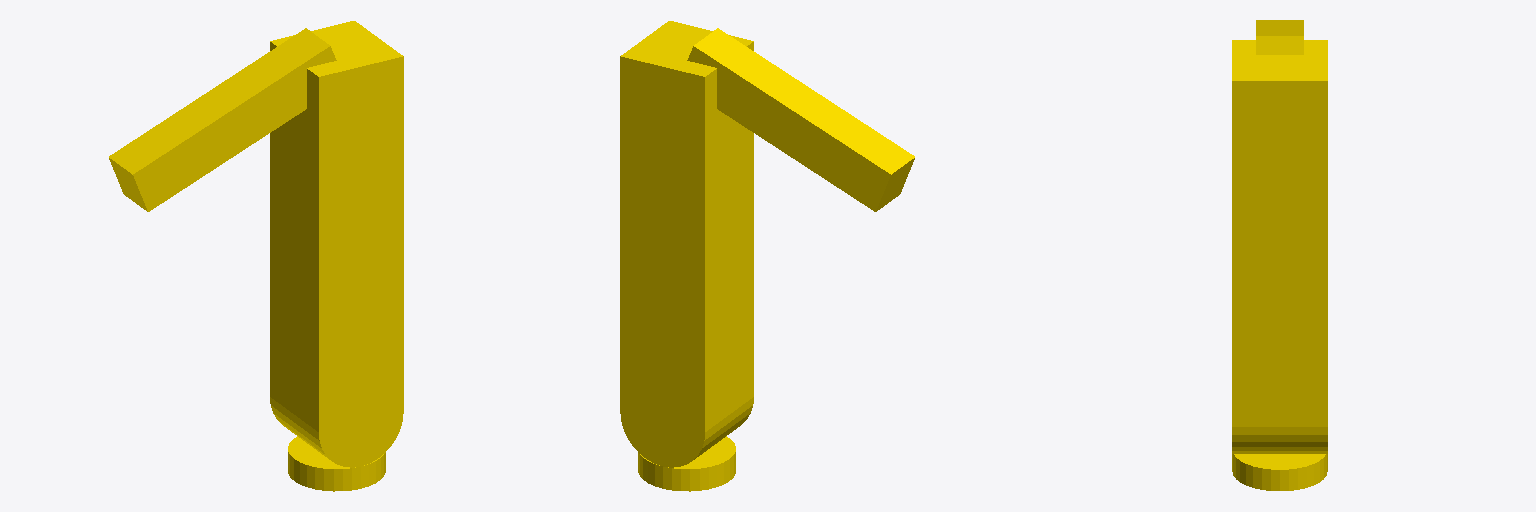
URDF robot description (crane):
<?xml version="1.0" ?>
<robot name="crane">
    <material name="gold">
        <color rgba="1 0.882 0 1"/>
    </material>
   
    <link name="crane_base_link"/>
    <link name="crane_yaw">
        <visual>
            <origin xyz="0 0 0.05" rpy="0 0 0" />
            <geometry>
               <cylinder length="0.1" radius="0.2"/>
            </geometry>
            <material name="gold"/>
        </visual>
        <collision>
            <origin xyz="0 0 0.05" rpy="0 0 0" />
            <geometry>
                <cylinder length="0.1" radius="0.2"/>
            </geometry>
        </collision>    
    </link>
    
    <joint name="joint0_1" type="revolute">
        <parent link="crane_base_link"/>
        <child link="crane_yaw"/>
        <origin xyz="0 0 0" rpy="0 0 0"/>
        <axis xyz="0 0 1"/>
        <limit lower="-0.523599" upper="0.523599" effort="0" velocity="0"/>
    </joint>

    <link name="crane_link1">
        <visual>
            <origin xyz="0 0 0" rpy="1.5708 0 0" />
            <geometry>
               <cylinder length="0.4" radius="0.2"/>
            </geometry>
            <material name="gold"/>
        </visual>
        <collision>
            <origin xyz="0 0 0" rpy="1.5708 0 0" />
            <geometry>
                <cylinder length="0.4" radius="0.2"/>
            </geometry>
        </collision>  

        <visual>
            <origin xyz="-0.8 0 0" rpy="0 0 0" />
            <geometry>
               <box size="1.6 0.4 0.4"/>
            </geometry>
            <material name="gold"/>
        </visual>
        <collision>
            <origin xyz="-0.8 0 0" rpy="0 0 0" />
            <geometry>
                <box size="1.6 0.4 0.4"/>
            </geometry>
        </collision>
    </link>


    <joint name="joint0_2" type="revolute">
        <parent link="crane_yaw"/> 
        <child link="crane_link1"/>
        <origin xyz="0 0 0.3" rpy="0 1.5708 0"/>
        <axis xyz="0 1 0"/>
        <limit lower="0.0" upper="1.5708" effort="0" velocity="0"/>
    </joint>


    <link name="crane_link2">
        <visual>
            <origin xyz="0.6133 0 0" rpy="0 0 0" />
            <geometry>
               <box size="1.2267 0.35 0.35"/>
            </geometry>
            <material name="gold"/>
        </visual>
        <collision>
            <origin xyz="0.6133 0 0" rpy="0 0 0" />
            <geometry>
                <box size="1.2267 0.35 0.35"/>
            </geometry>
        </collision>
    </link>

    <joint name="joint0_3" type="prismatic">
        <parent link="crane_link1"/>
        <child link="crane_link2"/>
        <origin xyz="-1.6 0 0" rpy="0 0 0"/>
        <axis xyz="-1 0 0"/>
        <limit lower="0.0" upper="1.2267" effort="0" velocity="0"/>
    </joint>

    <link name="crane_link3">
        <visual>
            <origin xyz="0.6133 0 0" rpy="0 0 0" />
            <geometry>
               <box size="1.2267 0.3 0.3"/>
            </geometry>
            <material name="gold"/>
        </visual>
        <collision>
            <origin xyz="0.6133 0 0" rpy="0 0 0" />
            <geometry>
                <box size="1.2267 0.3 0.3"/>
            </geometry>
        </collision>
    </link>

    <joint name="joint0_4" type="prismatic">
        <parent link="crane_link2"/>
        <child link="crane_link3"/>
        <origin xyz="0 0 0" rpy="0 0 0"/>
        <axis xyz="-1 0 0"/>
        <limit lower="0.0" upper="1.2267" effort="0" velocity="0"/>
    </joint>

    <link name="crane_link4">
        <visual>
            <origin xyz="0.6133 0 0" rpy="0 0 0" />
            <geometry>
               <box size="1.2267 0.25 0.25"/>
            </geometry>
            <material name="gold"/>
        </visual>
        <collision>
            <origin xyz="0.6133 0 0" rpy="0 0 0" />
            <geometry>
                <box size="1.2267 0.25 0.25"/>
            </geometry>
        </collision>
    </link>

    <joint name="joint0_5" type="prismatic">
        <parent link="crane_link3"/>
        <child link="crane_link4"/>
        <origin xyz="0 0 0" rpy="0 0 0"/>
        <axis xyz="-1 0 0"/>
        <limit lower="0.0" upper="1.2267" effort="0" velocity="0"/>
    </joint>

    <link name="tip">
        <visual>
            <!-- 0.5 + 0.054 -->
            <origin xyz="0 0 -0.554" rpy="0 0 0" />
            <geometry>
               <box size="0.2 0.2 1.0"/>
            </geometry>
            <material name="gold"/>
        </visual>
        <collision>
            <origin xyz="0 0 -0.554" rpy="0 0 0" />
            <geometry>
               <box size="0.2 0.2 1.0"/>
            </geometry>
            <material name="gold"/>
        </collision>
    </link>

    <joint name="tip_joint" type="fixed">
        <parent link="crane_link4"/>
        <child link="tip"/>
        <!-- 90 - 68.7 -->
        <origin xyz="0 0 0" rpy="0 -0.371755130675 0"/>
    </joint>

</robot>

--- Render facts (derived) ---
The picture shows the robot from 3 angles, left to right: view 1: azimuth 30°, elevation 25°; view 2: azimuth 150°, elevation 25°; view 3: azimuth 270°, elevation 25°; orthographic projection.
Robot: crane — 7 links, 6 joints (2 revolute, 3 prismatic, 1 fixed); root link crane_base_link; default pose: every joint at zero.
Links seen in each view (by area): view 1: crane_link1, tip, crane_yaw, crane_link2; view 2: crane_link1, tip, crane_yaw, crane_link2; view 3: crane_link1, crane_yaw, tip, crane_link2, crane_link4.
Boxes of the visible links, x1,y1,x2,y2 form: crane_link1: [270, 21, 403, 467]; tip: [109, 28, 336, 211]; crane_yaw: [288, 436, 385, 491]; crane_link2: [279, 24, 394, 72]; crane_link1: [620, 21, 753, 467]; tip: [687, 28, 914, 211]; crane_yaw: [638, 436, 735, 491]; crane_link2: [629, 24, 744, 72]; crane_link1: [1232, 40, 1327, 453]; crane_yaw: [1232, 454, 1327, 490]; tip: [1256, 20, 1303, 54]; crane_link2: [1238, 43, 1321, 77]; crane_link4: [1250, 51, 1309, 72].
Size in the robot's own frame: 1.22 by 0.4 by 1.97 metres.
Geometry: primitives only (box / cylinder / sphere), no mesh files.